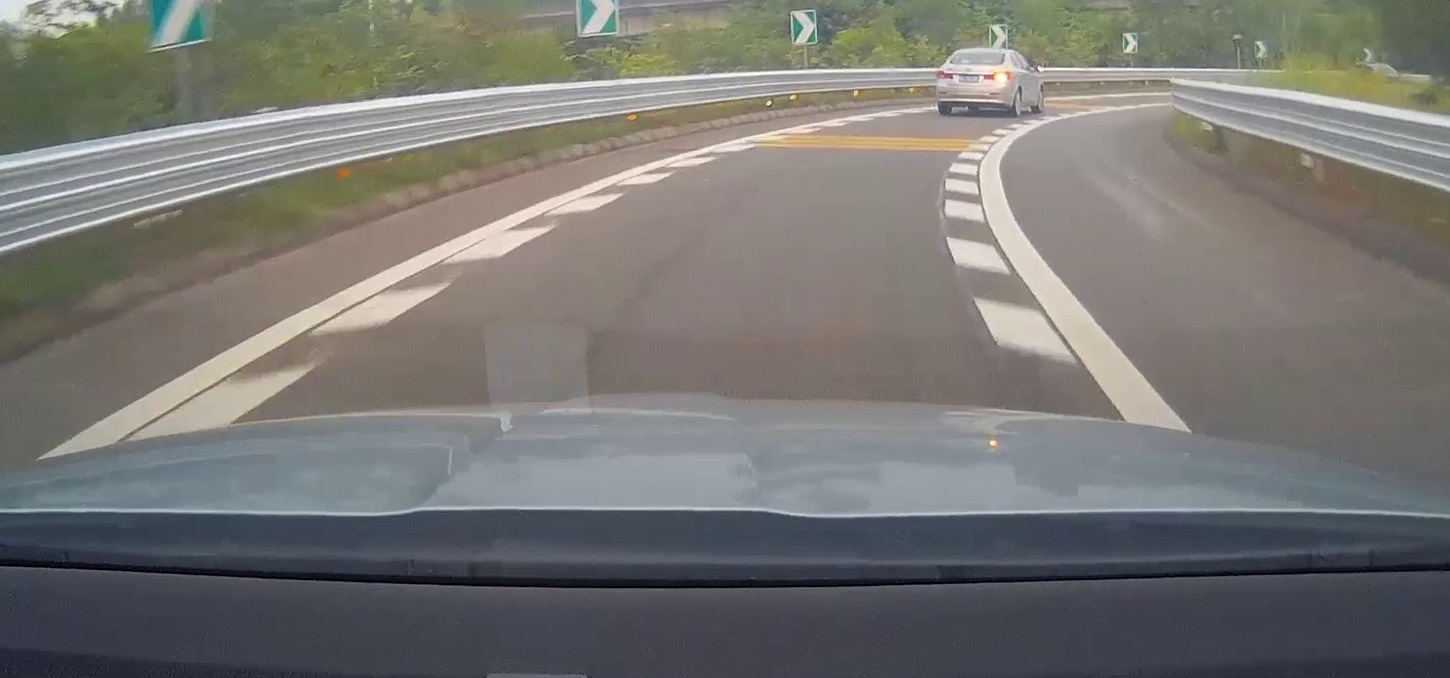L_light: (937, 70, 954, 79)
R_light: (984, 71, 1010, 80)
T_light: (971, 51, 983, 55)
day-right: (936, 47, 1014, 117)
